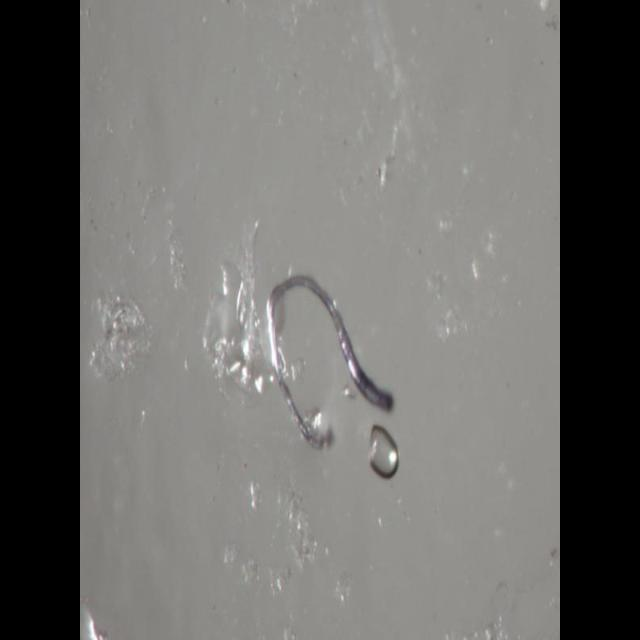Fibre: (202, 217, 398, 478)
